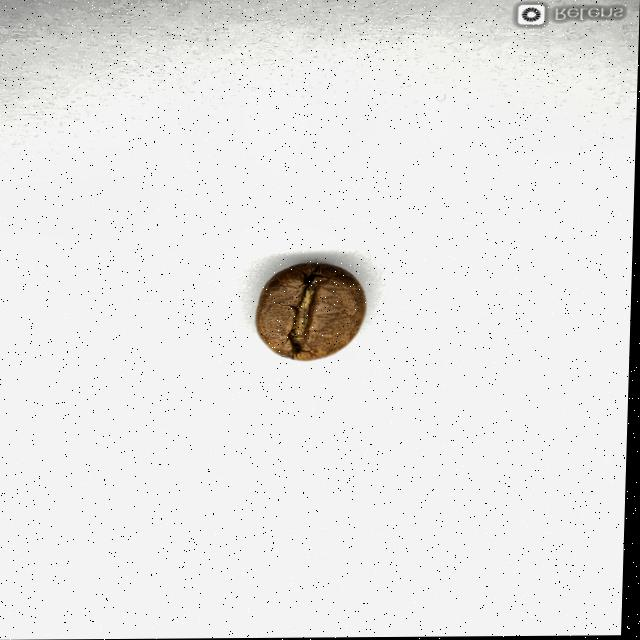Good bean: (255, 263, 370, 363)
